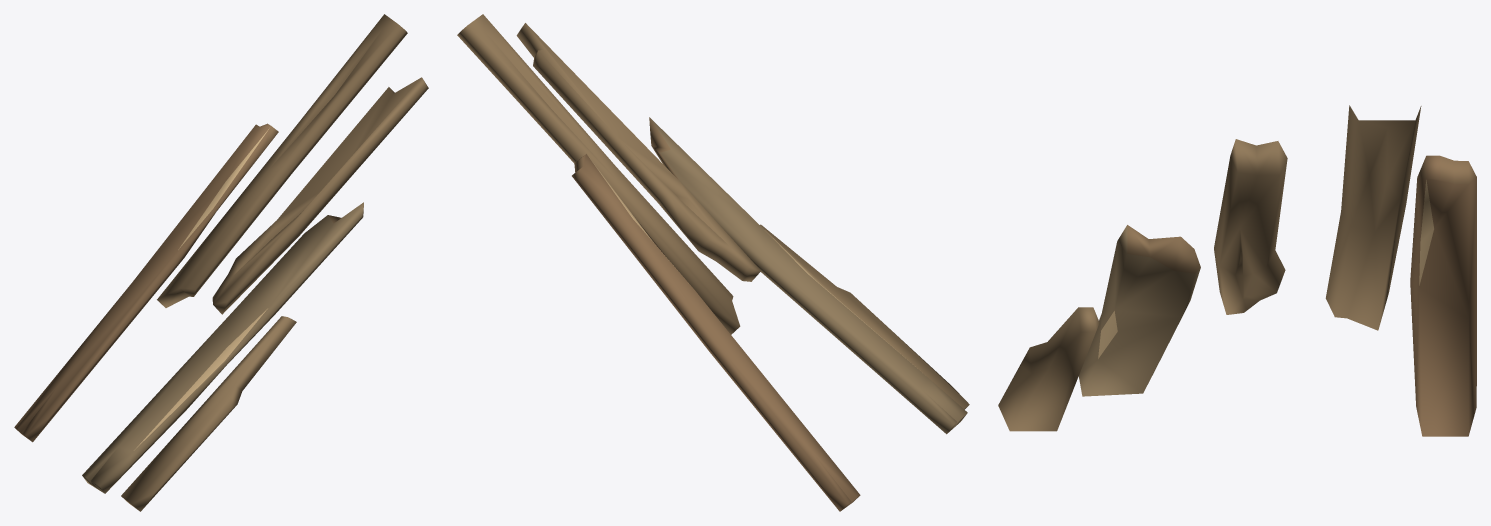
Rendered from rpgpp_av_roof_02_9x4x3_half_c.gltf.
3 renders of one model, left to right at view 1: azimuth 30°, elevation 25°; view 2: azimuth 150°, elevation 25°; view 3: azimuth 270°, elevation 25°, orthographic. The views are drawn at different scales.
Visible parts, largest first — view 1: rpgpp_av_roof_02_9x4x3_half_c; view 2: rpgpp_av_roof_02_9x4x3_half_c; view 3: rpgpp_av_roof_02_9x4x3_half_c.
Part boxes in pixels (x1,y1,x2,y2): rpgpp_av_roof_02_9x4x3_half_c: [14, 14, 428, 511]; rpgpp_av_roof_02_9x4x3_half_c: [457, 14, 969, 511]; rpgpp_av_roof_02_9x4x3_half_c: [998, 105, 1476, 436].
Bounding box in the file's own units: 0.055 × 0.0476 × 0.03.
1 material, 1 textured.
